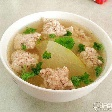dongguawanzi: (10, 17, 106, 91)
